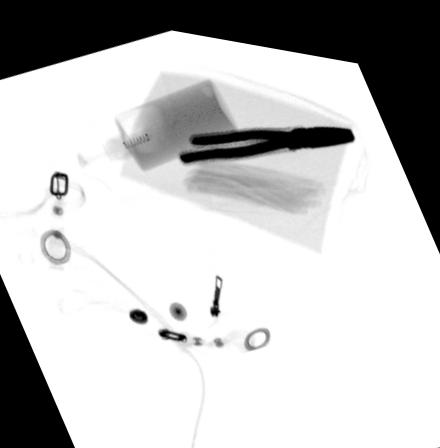Pliers: (177, 113, 356, 159)
